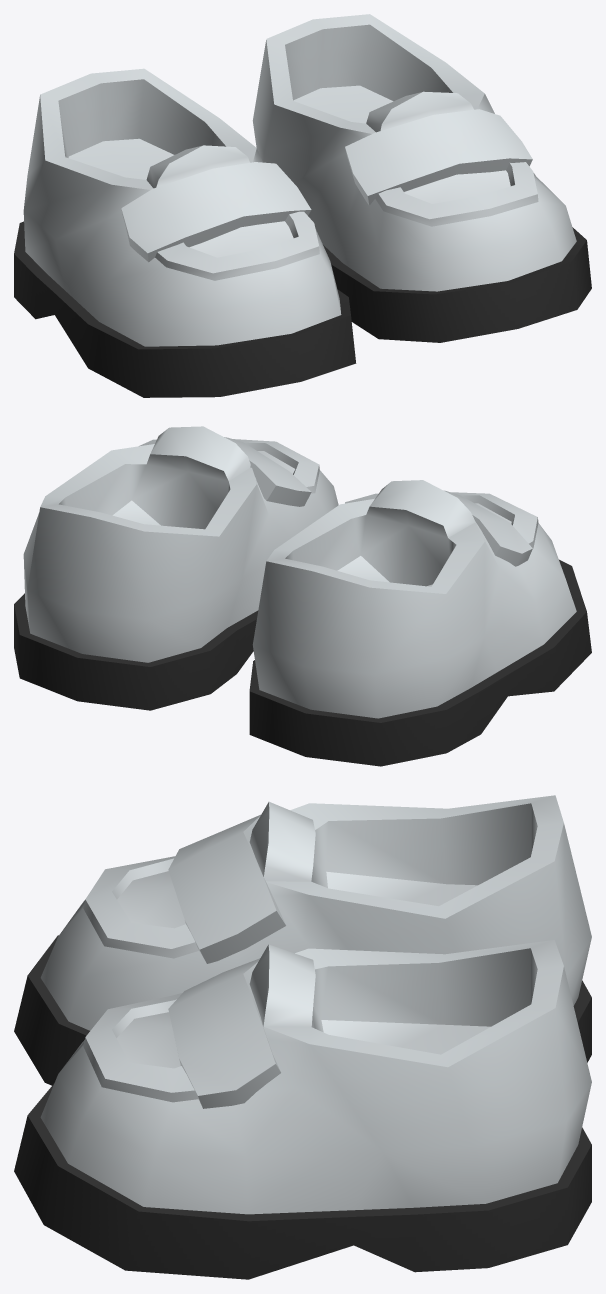
Rendered from Shoes_10.fbx.
3 views of the same model, one above another, from view 1: azimuth 30°, elevation 25°; view 2: azimuth 150°, elevation 25°; view 3: azimuth 270°, elevation 25° (orthographic). The views are drawn at different scales.
Visible parts, largest first — view 1: Shoes_10; view 2: Shoes_10; view 3: Shoes_10.
Boxes of the visible parts, x1,y1,x2,y2 form: Shoes_10: [14, 14, 591, 397]; Shoes_10: [14, 426, 591, 766]; Shoes_10: [14, 795, 591, 1279].
Bounding box in the file's own units: 41.82 × 16.06 × 33.98.
